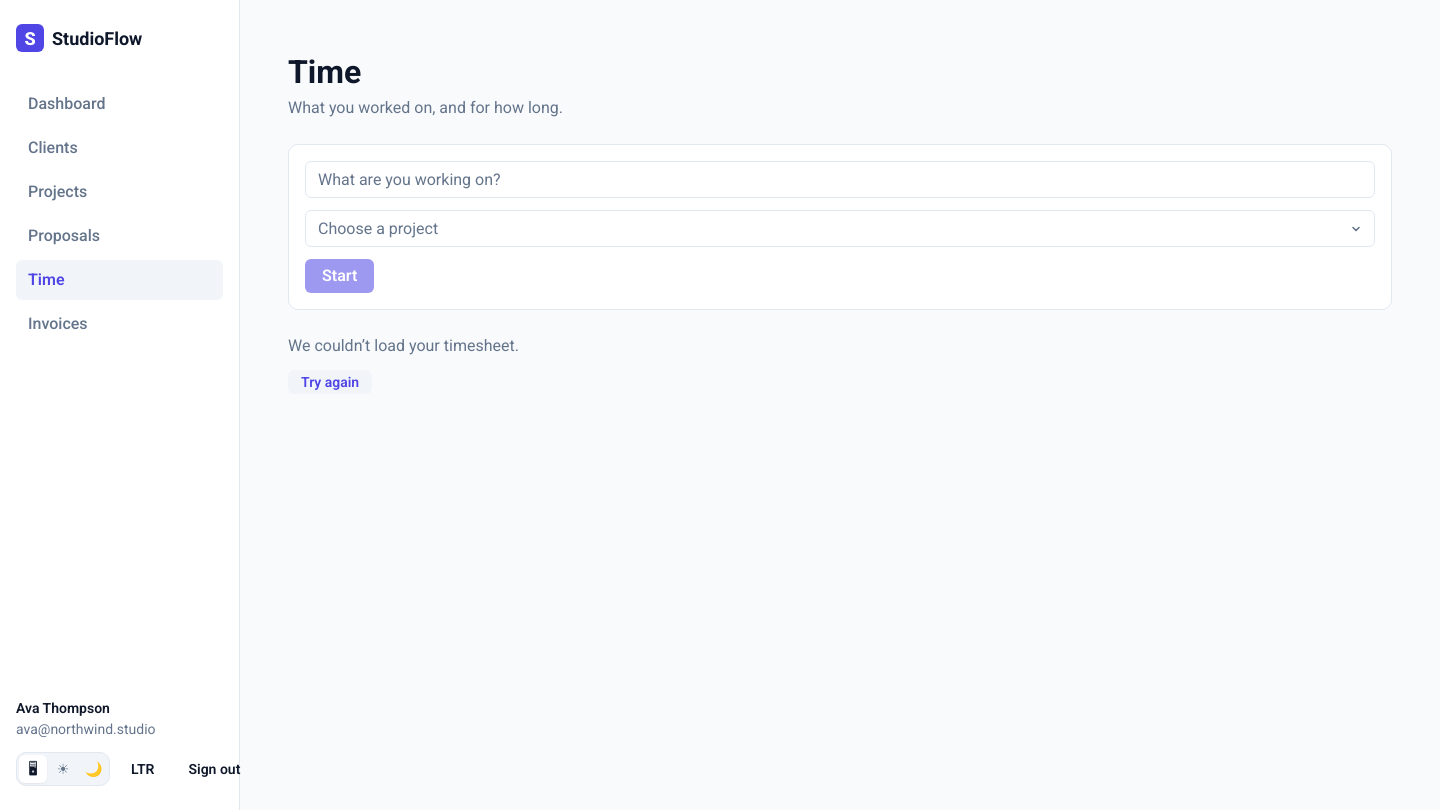
it: TimeTrackingPage — the timer › starts a timer and shows it running
The width and height of the screenshot is (1440, 810).
Expected: the heading "Time" is shown, [288,53,361,91]
In the field labelled "What are you working on?": (840, 180) [305,161,1375,198], type "Refactoring"
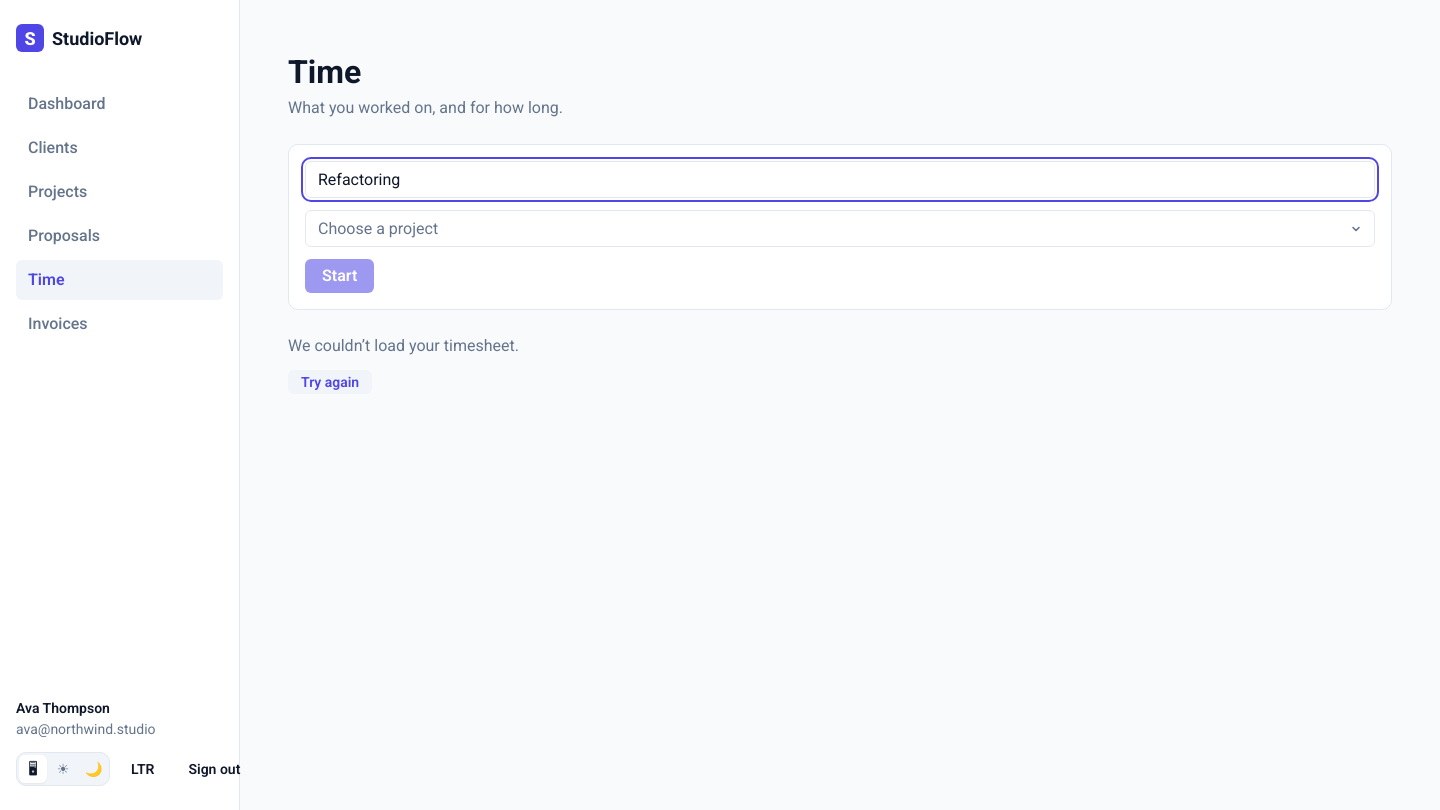
Click the dropdown labelled "project": (378, 228) [305,210,1375,247]
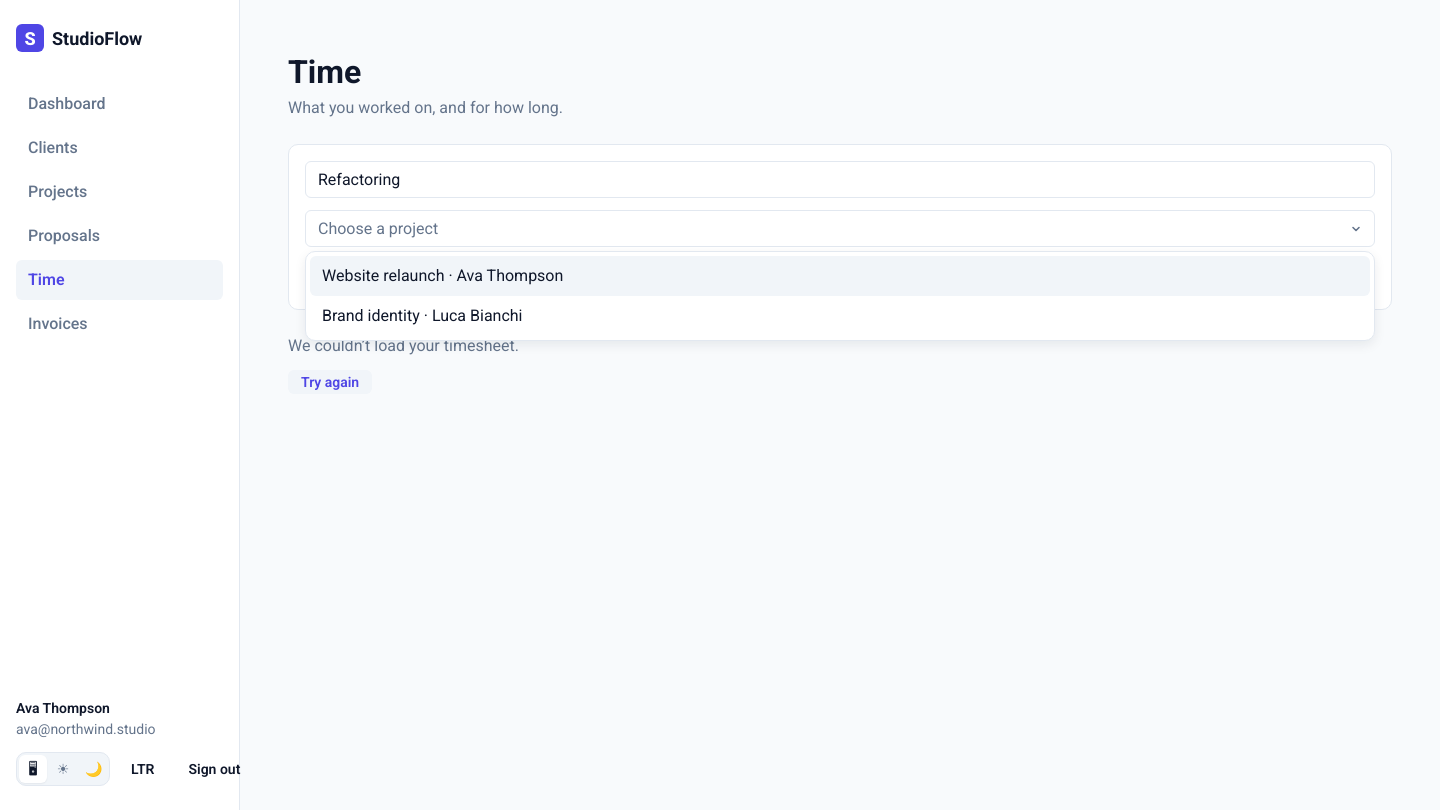
Click the option "Website relaunch · Ava Thompson": (443, 276) [310,256,1370,296]
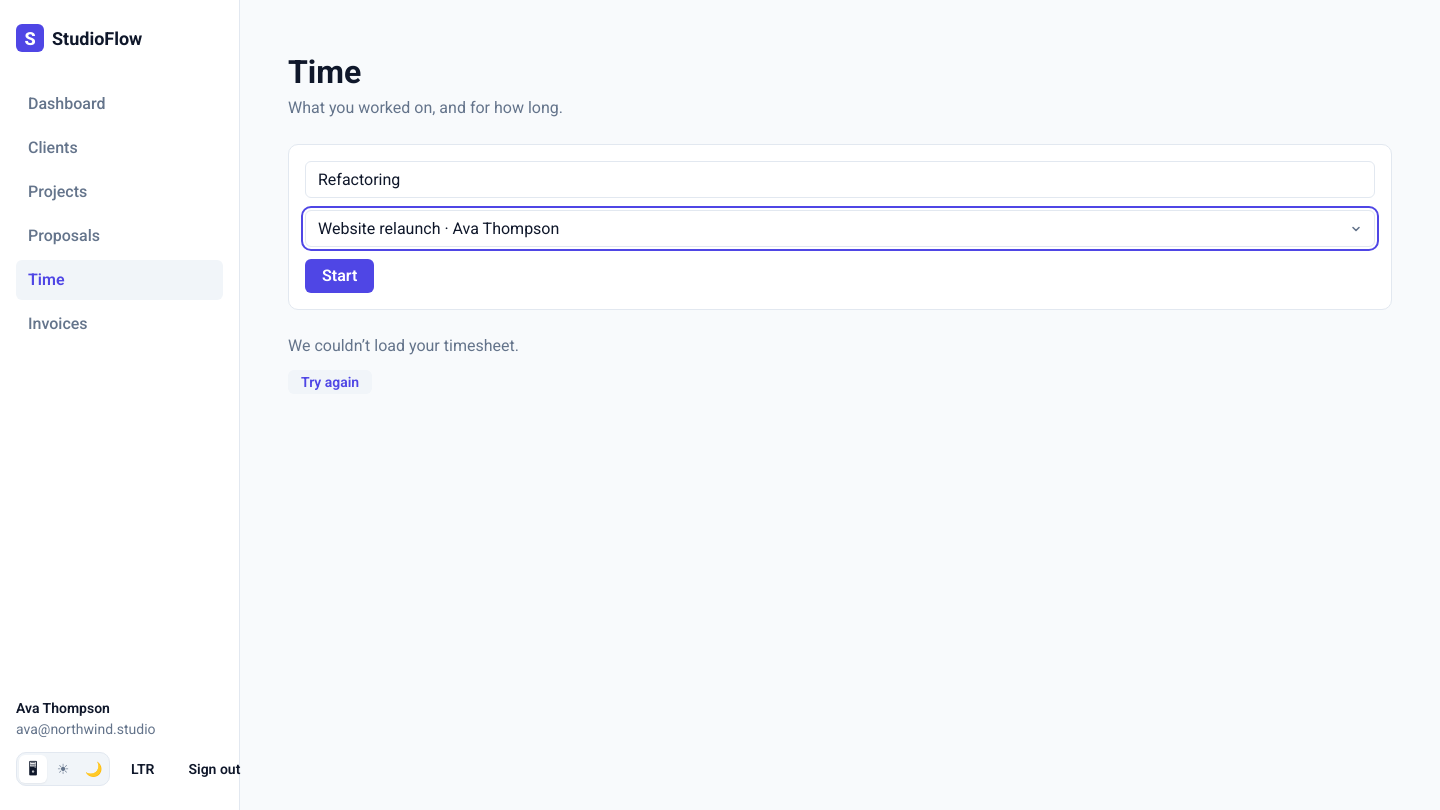
Click the button "Start": (340, 276) [305,259,374,293]
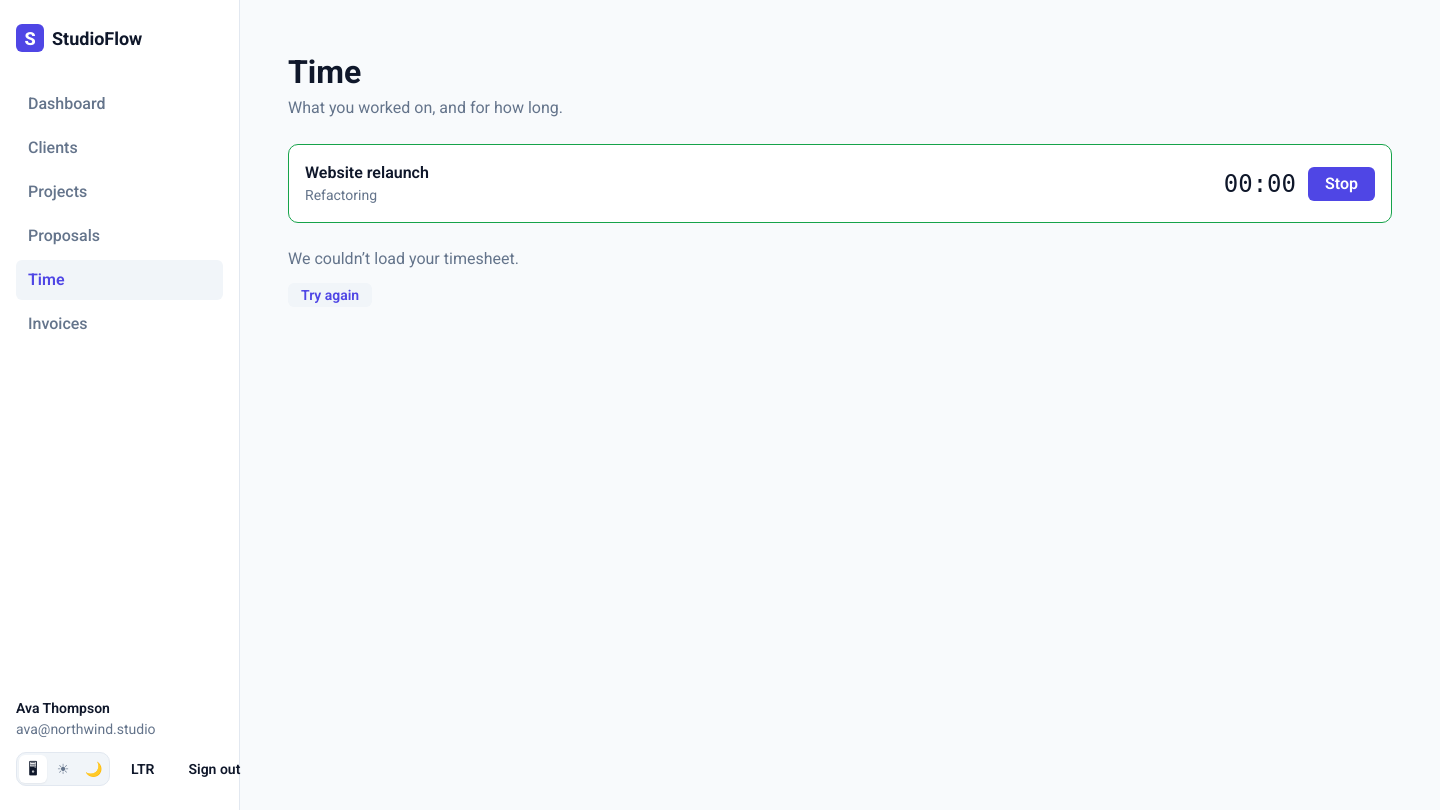
Expected: the text "00:00" is shown, [1224,166,1296,202]
Expected: the button "Stop" is shown, [1308,166,1375,200]
Expected: the text "Refactoring" is shown, [305,187,377,203]
